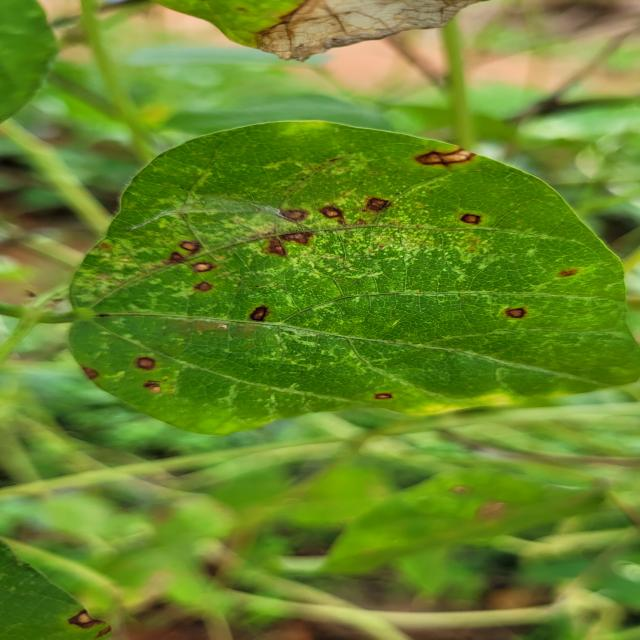Dolicos bean_cercospora leaf spot: (68, 118, 640, 424)
